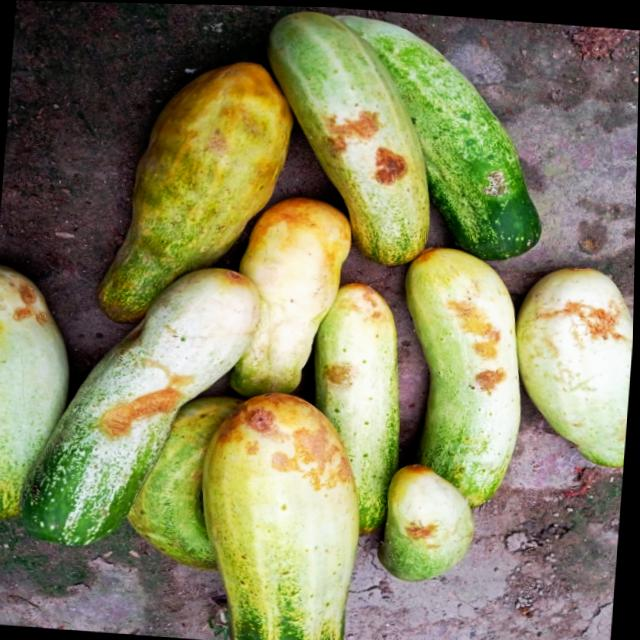Belly-Rot: (215, 391, 364, 495), (94, 352, 201, 450), (316, 95, 418, 188), (442, 287, 515, 402), (539, 283, 632, 356), (11, 276, 57, 336), (343, 281, 386, 330), (402, 512, 446, 554), (321, 353, 357, 389)
